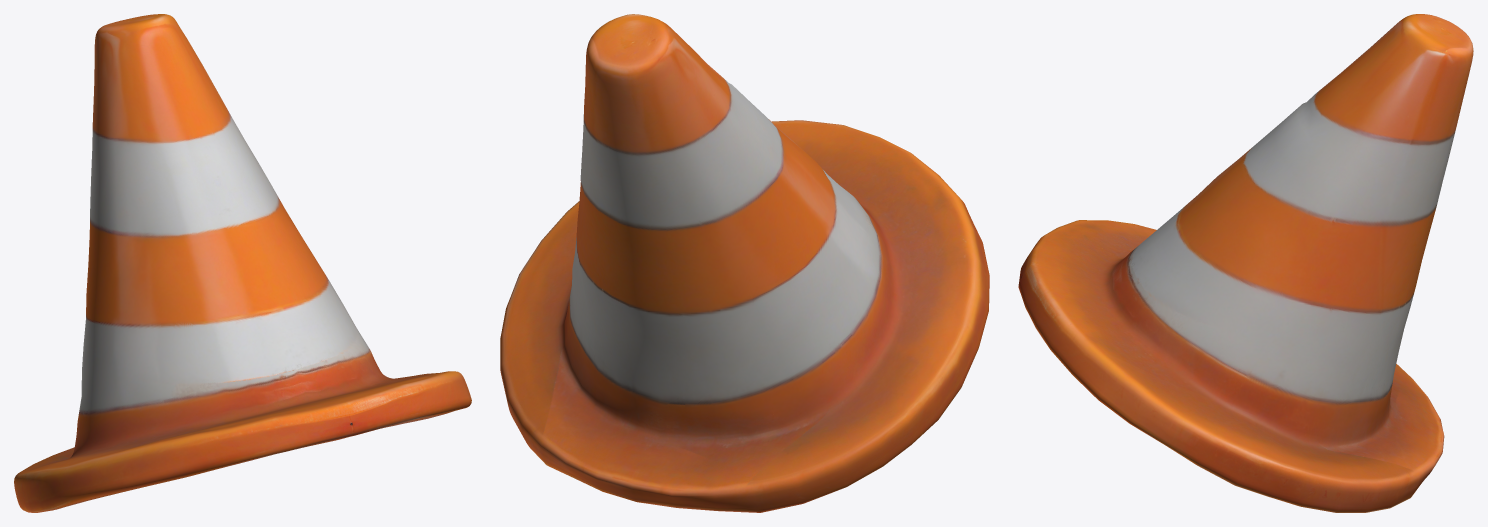
3 views of the same model, side by side, from view 1: azimuth 30°, elevation 25°; view 2: azimuth 150°, elevation 25°; view 3: azimuth 270°, elevation 25° (orthographic). The views are drawn at different scales.
Visible parts, largest first — view 1: Cone; view 2: Cone; view 3: Cone.
Part boxes in pixels (x1=…): Cone: x1=14, y1=14, x2=471, y2=512; Cone: x1=500, y1=14, x2=989, y2=512; Cone: x1=1018, y1=14, x2=1473, y2=512.
Bounding box in the file's own units: 0.5704 × 0.6033 × 0.572.
Materials: 1 (1 with a texture image).
